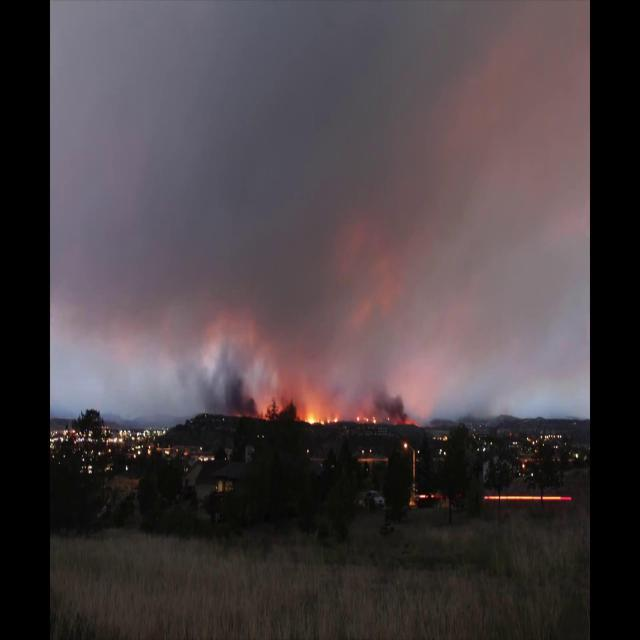Fire: (305, 416, 339, 426), (356, 416, 378, 424)
